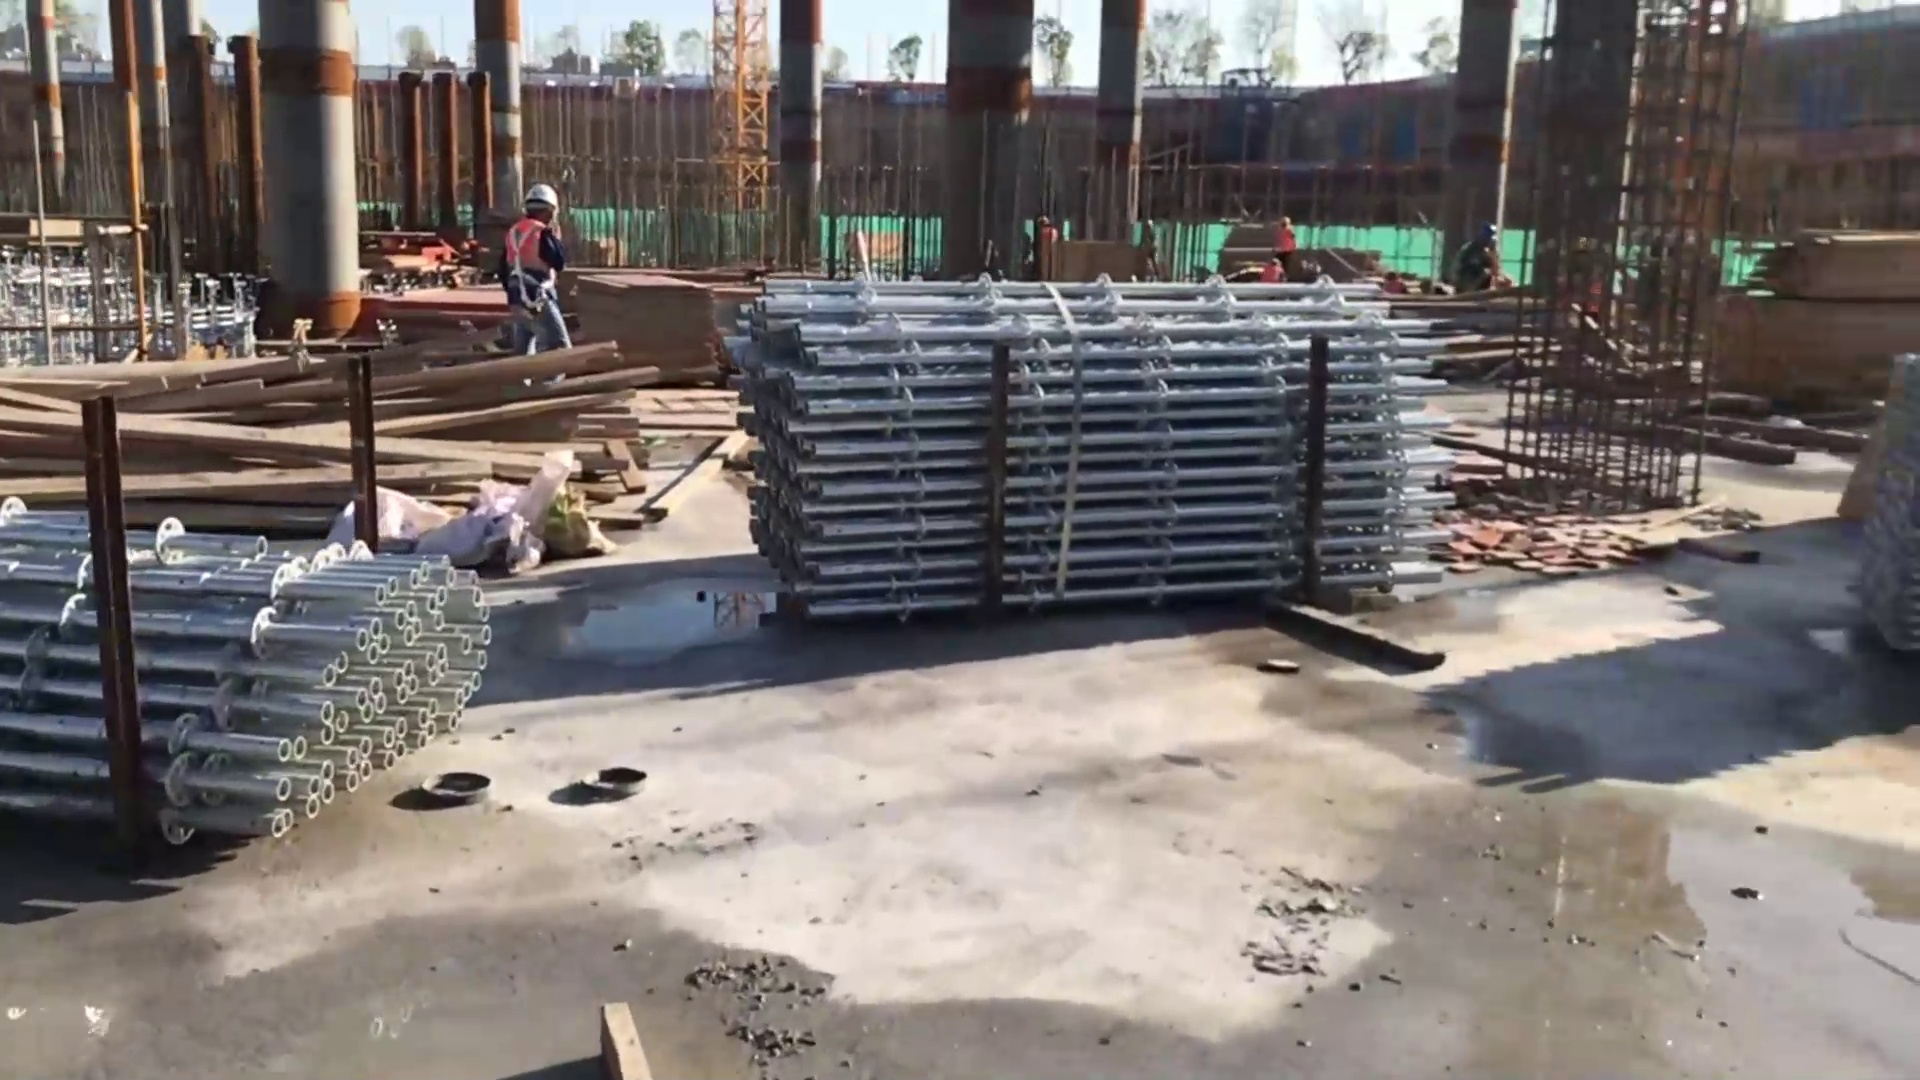helmet: (520, 184, 563, 211)
person: (498, 183, 577, 365)
scaffold: (733, 276, 1455, 619), (6, 516, 498, 843)
vest: (501, 220, 561, 315)
wood: (8, 341, 650, 530)
